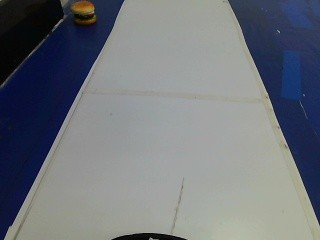burger: (66, 0, 104, 33)
